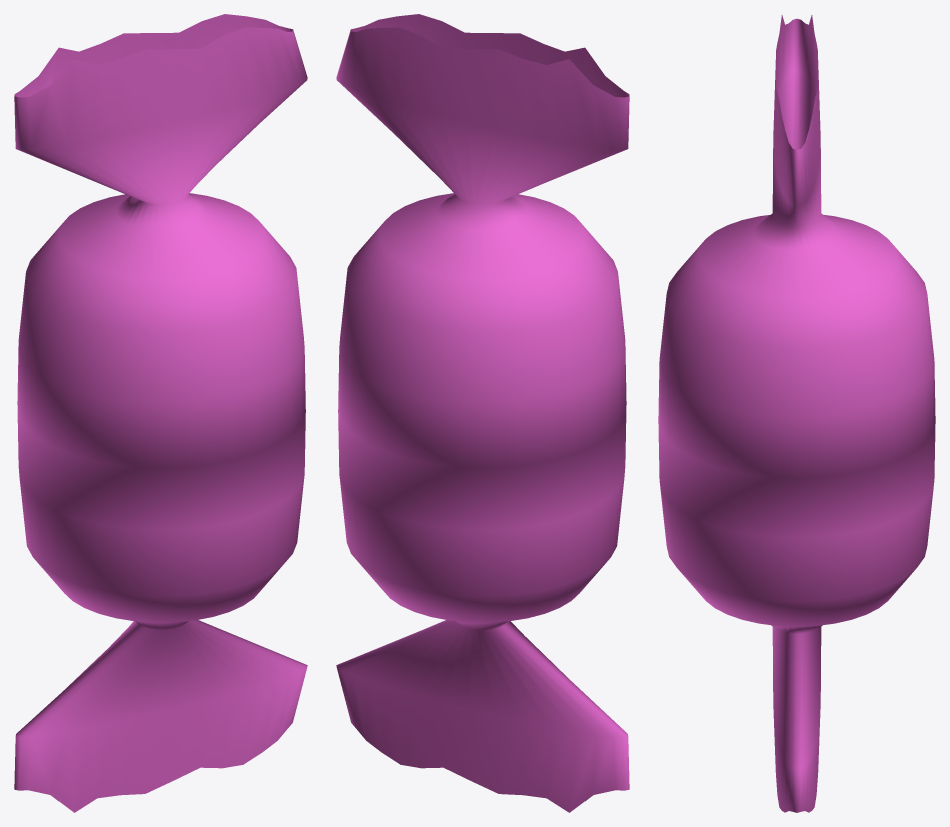
Rendered from candy.fbx.
The picture shows the model from 3 angles, left to right: view 1: azimuth 30°, elevation 25°; view 2: azimuth 150°, elevation 25°; view 3: azimuth 270°, elevation 25°; orthographic projection. The views are drawn at different scales.
Visible parts, largest first — view 1: #candy; view 2: #candy; view 3: #candy.
Part boxes in pixels (x1,y1,x2,y2): #candy: [14, 14, 307, 812]; #candy: [336, 14, 629, 812]; #candy: [658, 15, 935, 812].
Bounding box in the file's own units: 82.17 × 202 × 70.13.
